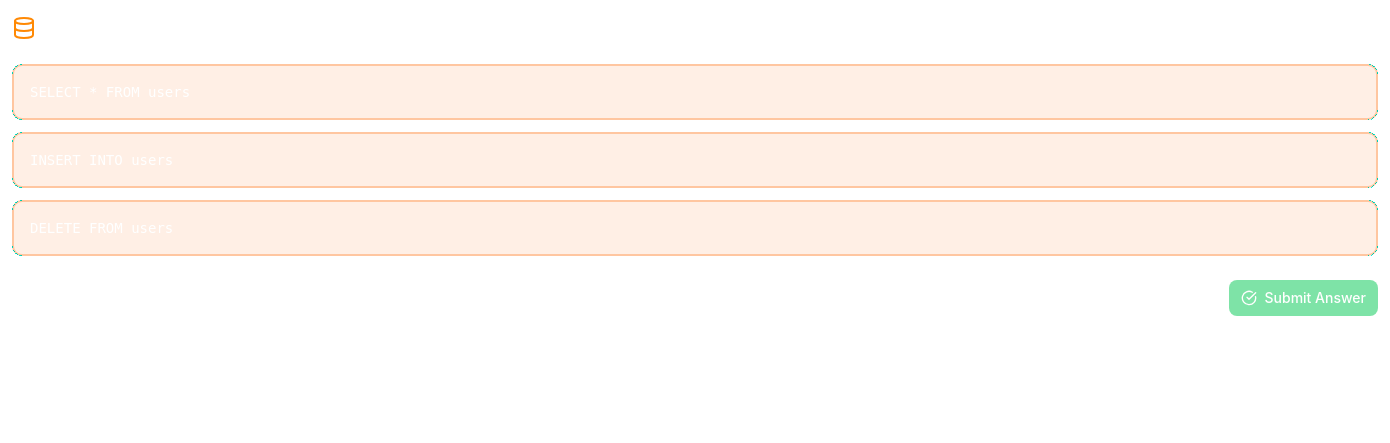
Test: SelectQuery › feedback › shows error feedback after wrong answer
The width and height of the screenshot is (1390, 443).
Click the button "INSERT INTO users": (102, 160) [12, 132, 1378, 188]
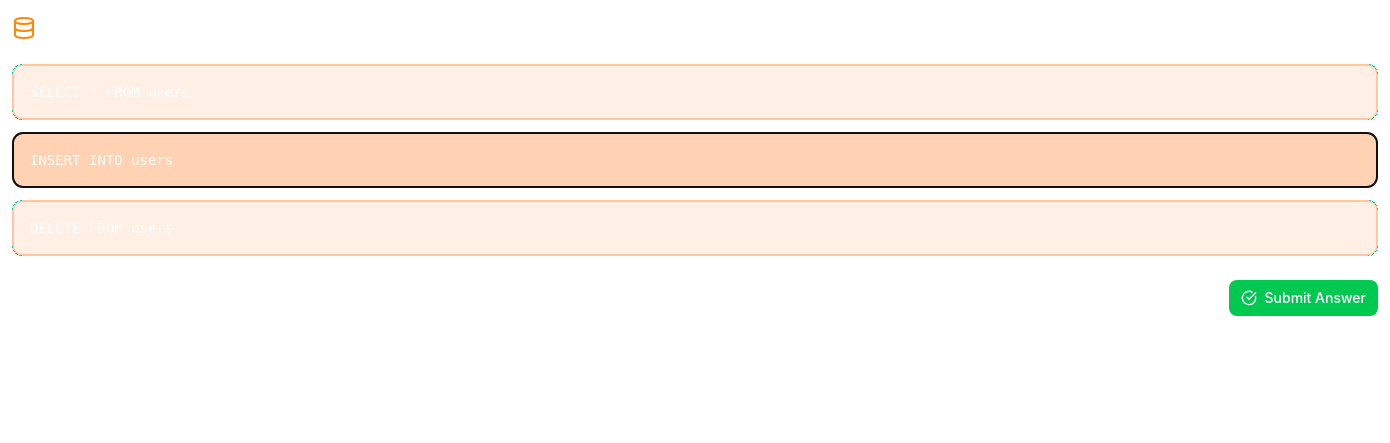
Click the button "Submit Answer": (1303, 298) [1228, 280, 1378, 316]
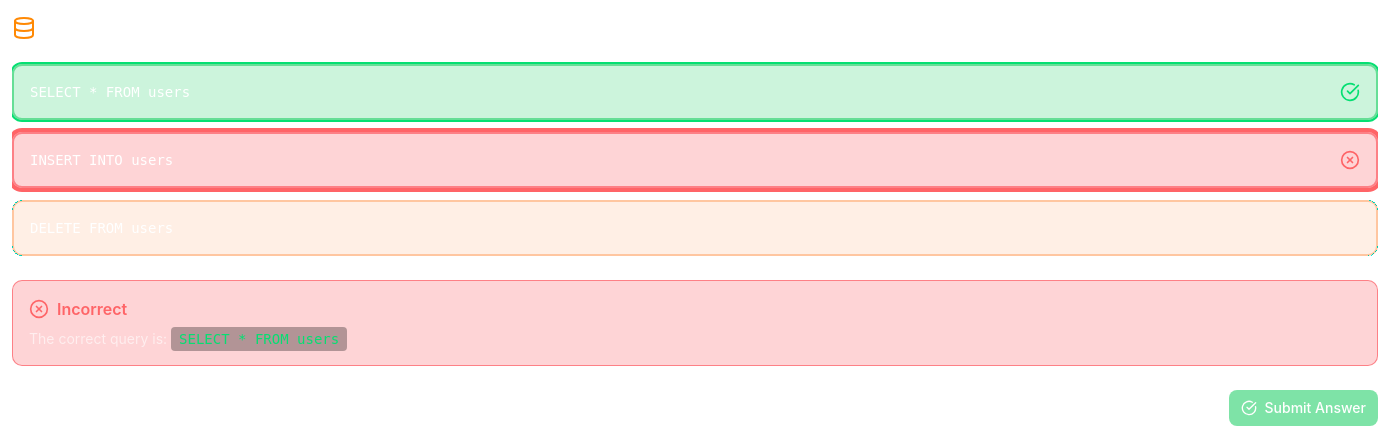
Expected: the text "Incorrect" is shown, [57, 297, 127, 321]
